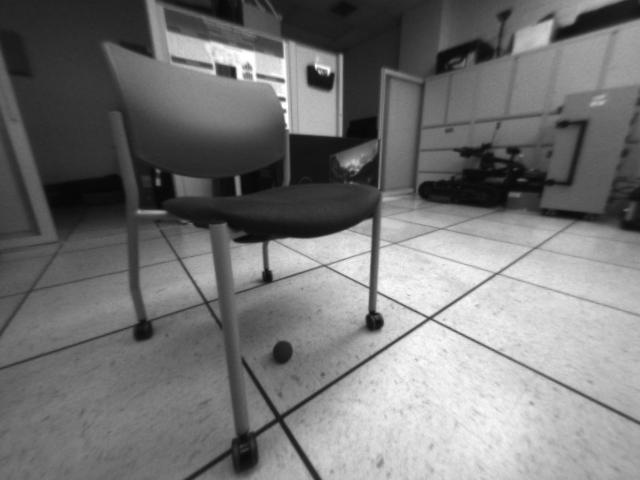dogtoy: (264, 333, 303, 369)
